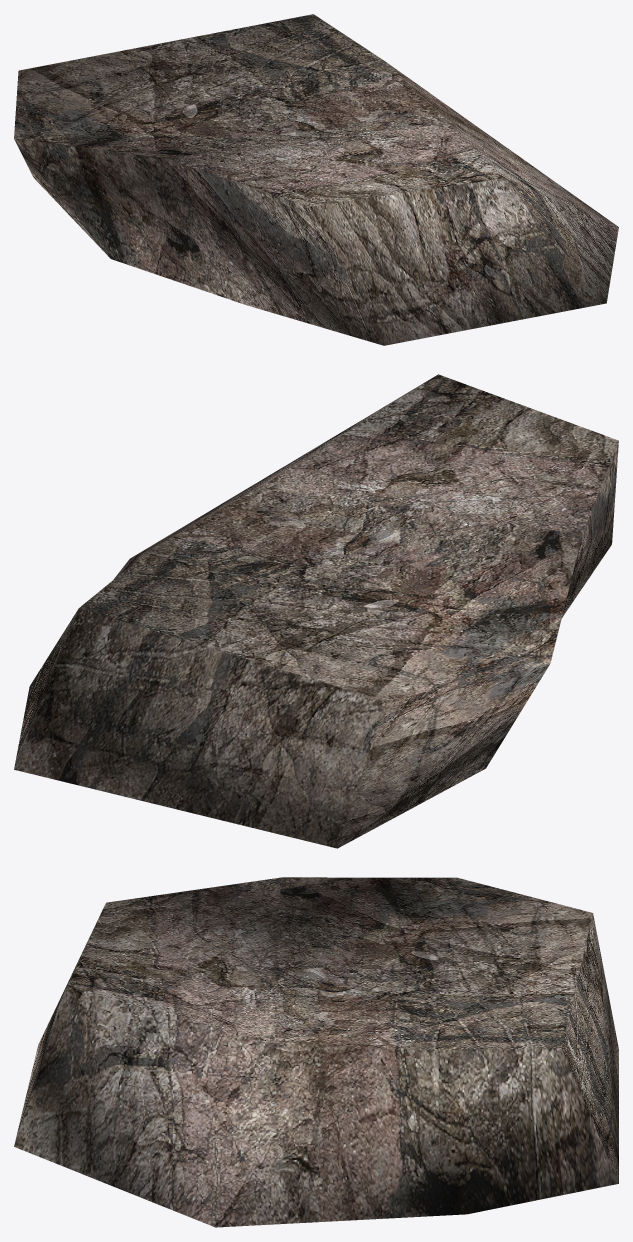
The model's file is rock1.glb.
3 renders of one model, top to bottom at view 1: azimuth 30°, elevation 25°; view 2: azimuth 150°, elevation 25°; view 3: azimuth 270°, elevation 25°, orthographic. The views are drawn at different scales.
Parts seen in each view (by area): view 1: rock; view 2: rock; view 3: rock.
Boxes of the visible parts, x1,y1,x2,y2 form: rock: (14,14,618,345); rock: (14,374,618,848); rock: (14,877,618,1227).
Bounding box in the file's own units: 18.66 × 5.78 × 20.42.
1 material, 1 textured.
